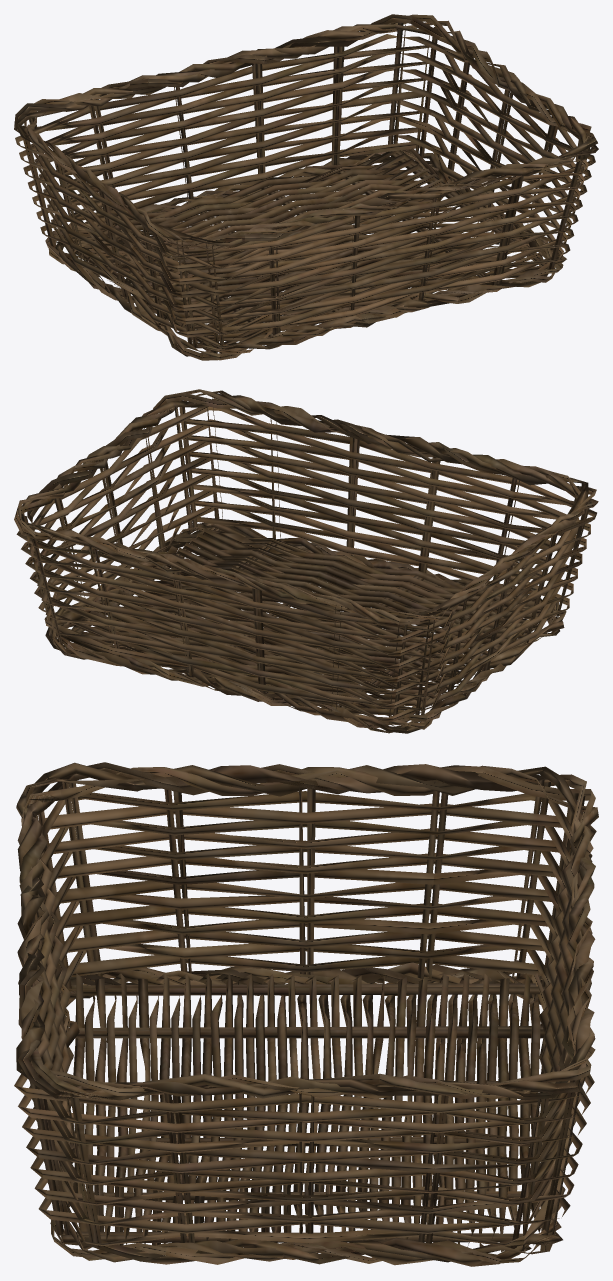
File: wicker_basket_01.glb
3 views of the same model, one above another, from view 1: azimuth 30°, elevation 25°; view 2: azimuth 150°, elevation 25°; view 3: azimuth 270°, elevation 25° (orthographic). The views are drawn at different scales.
Visible parts, largest first — view 1: wicker_basket_01; view 2: wicker_basket_01; view 3: wicker_basket_01.
Boxes of the visible parts, left/top/right/bottom form: wicker_basket_01: left=14, top=14, right=598, bottom=360; wicker_basket_01: left=14, top=389, right=598, bottom=733; wicker_basket_01: left=14, top=762, right=598, bottom=1266.
Bounding box in the file's own units: 0.383 × 0.1174 × 0.2939.
Materials: 1 (1 with a texture image).
